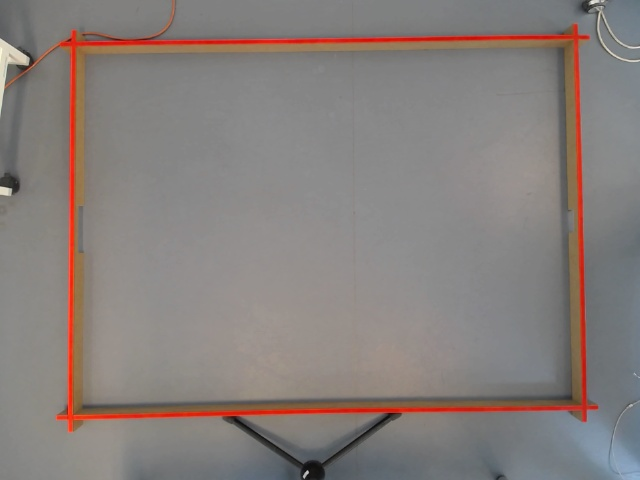big_goal: (64, 206, 84, 252)
small_goal: (562, 207, 582, 233)
wall: (56, 393, 604, 423), (52, 29, 591, 56), (557, 21, 588, 423), (62, 24, 88, 431)
